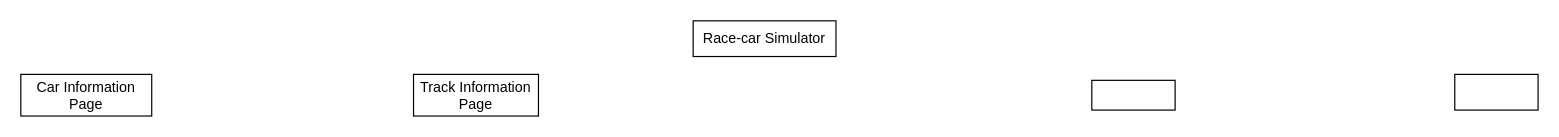
Some shapes in this 1559 by 137 pixel diagram are drawn without their labels. Each missing label, with the centre of its shape:
"Results Page" belongs at pixel 1496 91.
"Simulation" belongs at pixel 1133 94.
